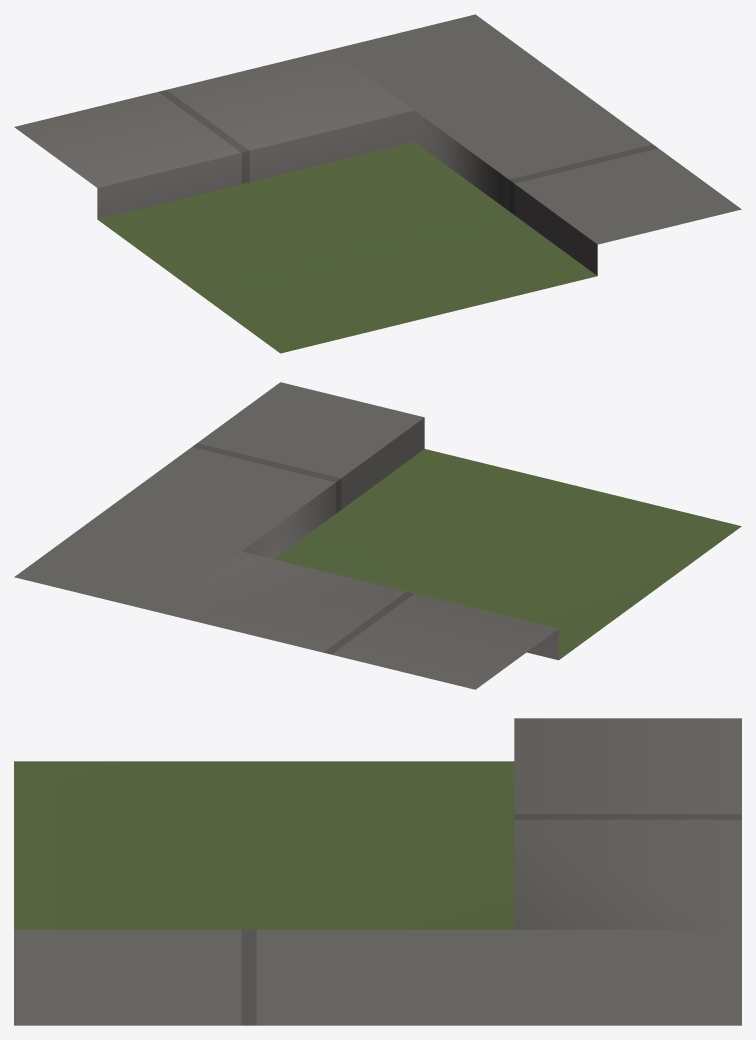
File: AI_Env_Sewer_Floor_Corner_Open.fbx
3 views of the same model, one above another, from view 1: azimuth 30°, elevation 25°; view 2: azimuth 150°, elevation 25°; view 3: azimuth 270°, elevation 25° (orthographic). The views are drawn at different scales.
Parts seen in each view (by area): view 1: AI_Env_Sewer_Floor_Corner_Open; view 2: AI_Env_Sewer_Floor_Corner_Open; view 3: AI_Env_Sewer_Floor_Corner_Open.
Boxes of the visible parts, x1,y1,x2,y2 form: AI_Env_Sewer_Floor_Corner_Open: (14,14,741,353); AI_Env_Sewer_Floor_Corner_Open: (14,382,741,689); AI_Env_Sewer_Floor_Corner_Open: (14,718,741,1025).
Bounding box in the file's own units: 5 × 0.3261 × 5.
